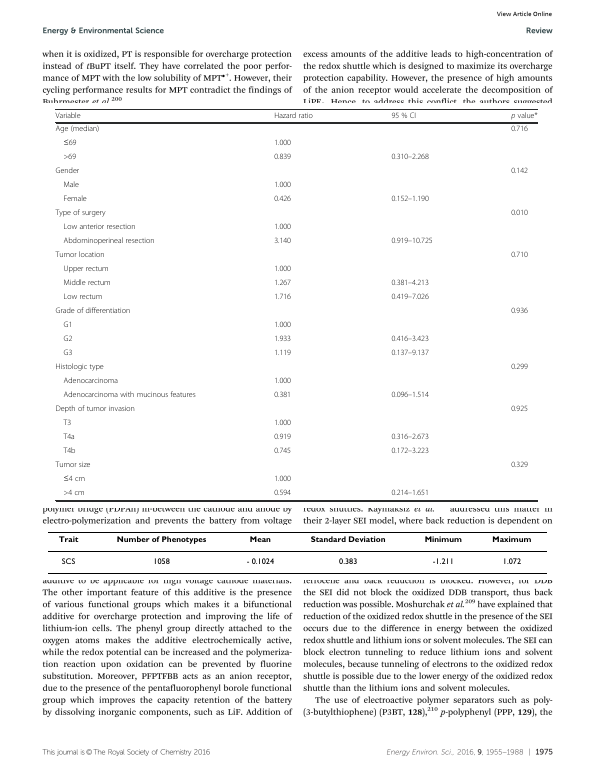borderless: (54, 108, 537, 500), (47, 530, 547, 573)
cell: (62, 391, 196, 401), (62, 237, 155, 247), (115, 535, 207, 544), (54, 405, 136, 415), (54, 307, 131, 317), (62, 223, 136, 233), (309, 535, 386, 544), (62, 377, 119, 387), (55, 209, 106, 219), (54, 363, 105, 373), (55, 251, 105, 261), (62, 279, 112, 289), (62, 265, 109, 275), (55, 125, 100, 135), (390, 237, 433, 247), (62, 293, 103, 303), (390, 153, 430, 163), (390, 195, 430, 205), (390, 279, 430, 289), (390, 293, 430, 303), (390, 335, 430, 345), (390, 349, 430, 359), (390, 391, 430, 401), (390, 433, 430, 443), (390, 447, 430, 457), (390, 489, 430, 499), (54, 461, 91, 471), (491, 535, 532, 544), (273, 112, 314, 121), (423, 535, 462, 544), (62, 195, 88, 205), (510, 112, 538, 121), (55, 167, 80, 177), (390, 112, 417, 121), (245, 557, 275, 565), (62, 475, 86, 485), (55, 112, 81, 121), (62, 489, 85, 499), (248, 535, 271, 544), (57, 535, 79, 544), (510, 125, 529, 135), (273, 139, 292, 149), (273, 153, 292, 163), (510, 167, 529, 177), (273, 181, 292, 191), (273, 195, 292, 205), (510, 209, 529, 219), (273, 223, 292, 233), (273, 237, 292, 247), (510, 251, 529, 261), (273, 265, 292, 275), (273, 279, 292, 289), (273, 293, 292, 303), (510, 307, 529, 317), (273, 321, 292, 331), (273, 335, 292, 345), (273, 349, 292, 359), (510, 363, 529, 373), (273, 377, 292, 387), (273, 391, 292, 401), (510, 405, 529, 415), (273, 419, 292, 429), (273, 433, 292, 443), (273, 447, 292, 457), (510, 461, 529, 471), (273, 475, 292, 485), (273, 489, 292, 499), (431, 557, 454, 565), (62, 181, 80, 191), (501, 557, 522, 565), (338, 557, 358, 565), (62, 139, 77, 149), (62, 153, 77, 163), (152, 557, 170, 565), (62, 433, 76, 443), (62, 447, 76, 457), (60, 557, 76, 565), (62, 321, 73, 331), (62, 335, 73, 345), (62, 349, 73, 359), (62, 419, 72, 429)
